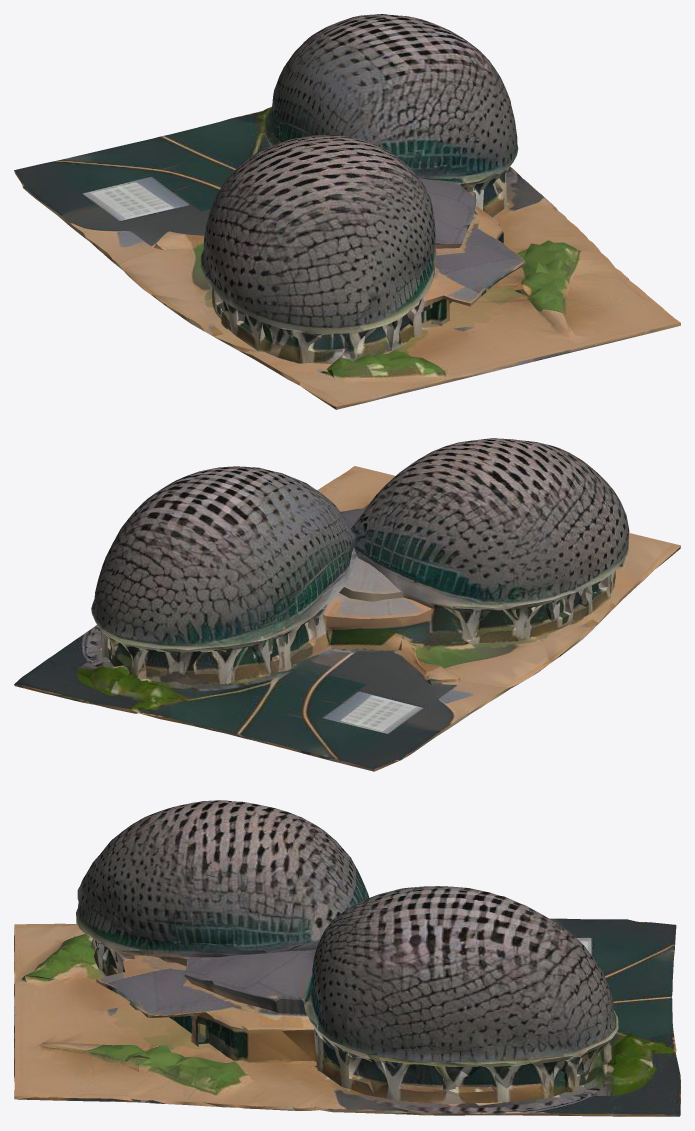
File: esplanade-singapore.glb
3 renders of one model, top to bottom at view 1: azimuth 30°, elevation 25°; view 2: azimuth 150°, elevation 25°; view 3: azimuth 270°, elevation 25°, orthographic. The views are drawn at different scales.
Parts seen in each view (by area): view 1: logan-textured.obj; view 2: logan-textured.obj; view 3: logan-textured.obj.
Boxes of the visible parts, <box> form: logan-textured.obj: <box>14,14,680,409</box>; logan-textured.obj: <box>14,438,680,771</box>; logan-textured.obj: <box>14,800,680,1116</box>.
Bounding box in the file's own units: 0.715 × 0.2668 × 1.
Materials: 1 (1 with a texture image).
